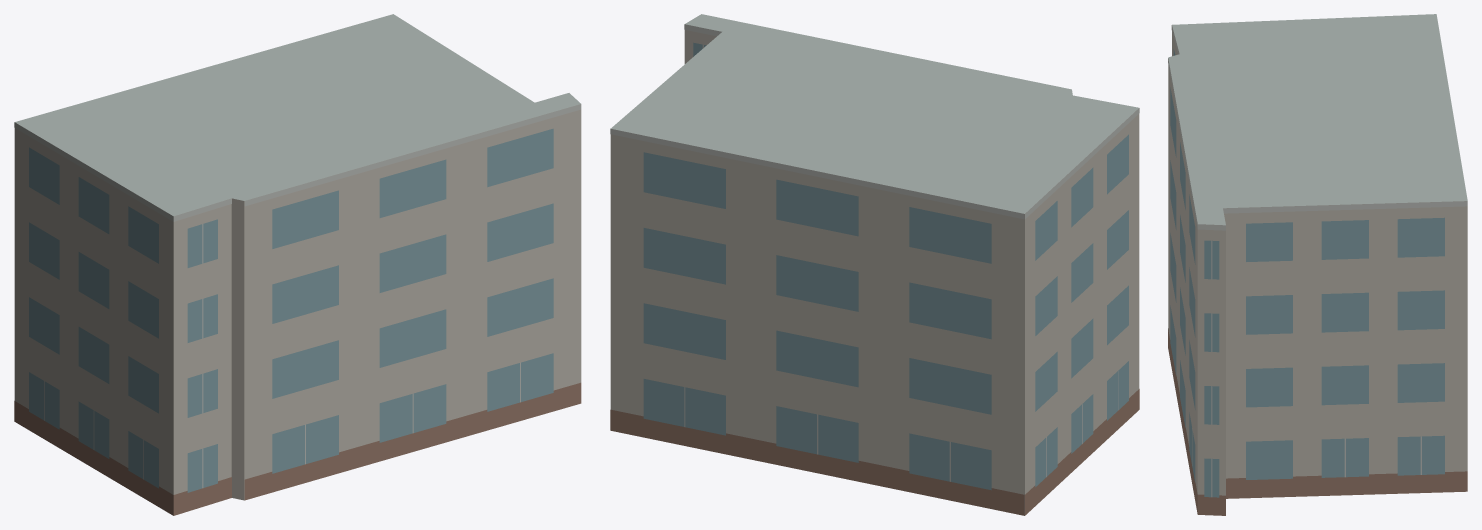
File: survey-upis-32735359.glb
The picture shows the model from 3 angles, left to right: view 1: azimuth 30°, elevation 25°; view 2: azimuth 150°, elevation 25°; view 3: azimuth 270°, elevation 25°; orthographic projection. The views are drawn at different scales.
Visible parts, largest first — view 1: survey-upis-32735359.tmp; view 2: survey-upis-32735359.tmp; view 3: survey-upis-32735359.tmp.
Part boxes in pixels (x1=…): survey-upis-32735359.tmp: x1=14, y1=14, x2=581, y2=515; survey-upis-32735359.tmp: x1=610, y1=14, x2=1139, y2=515; survey-upis-32735359.tmp: x1=1168, y1=14, x2=1467, y2=515.
Size of the model in its own units: 20.55 by 13.18 by 12.32.
